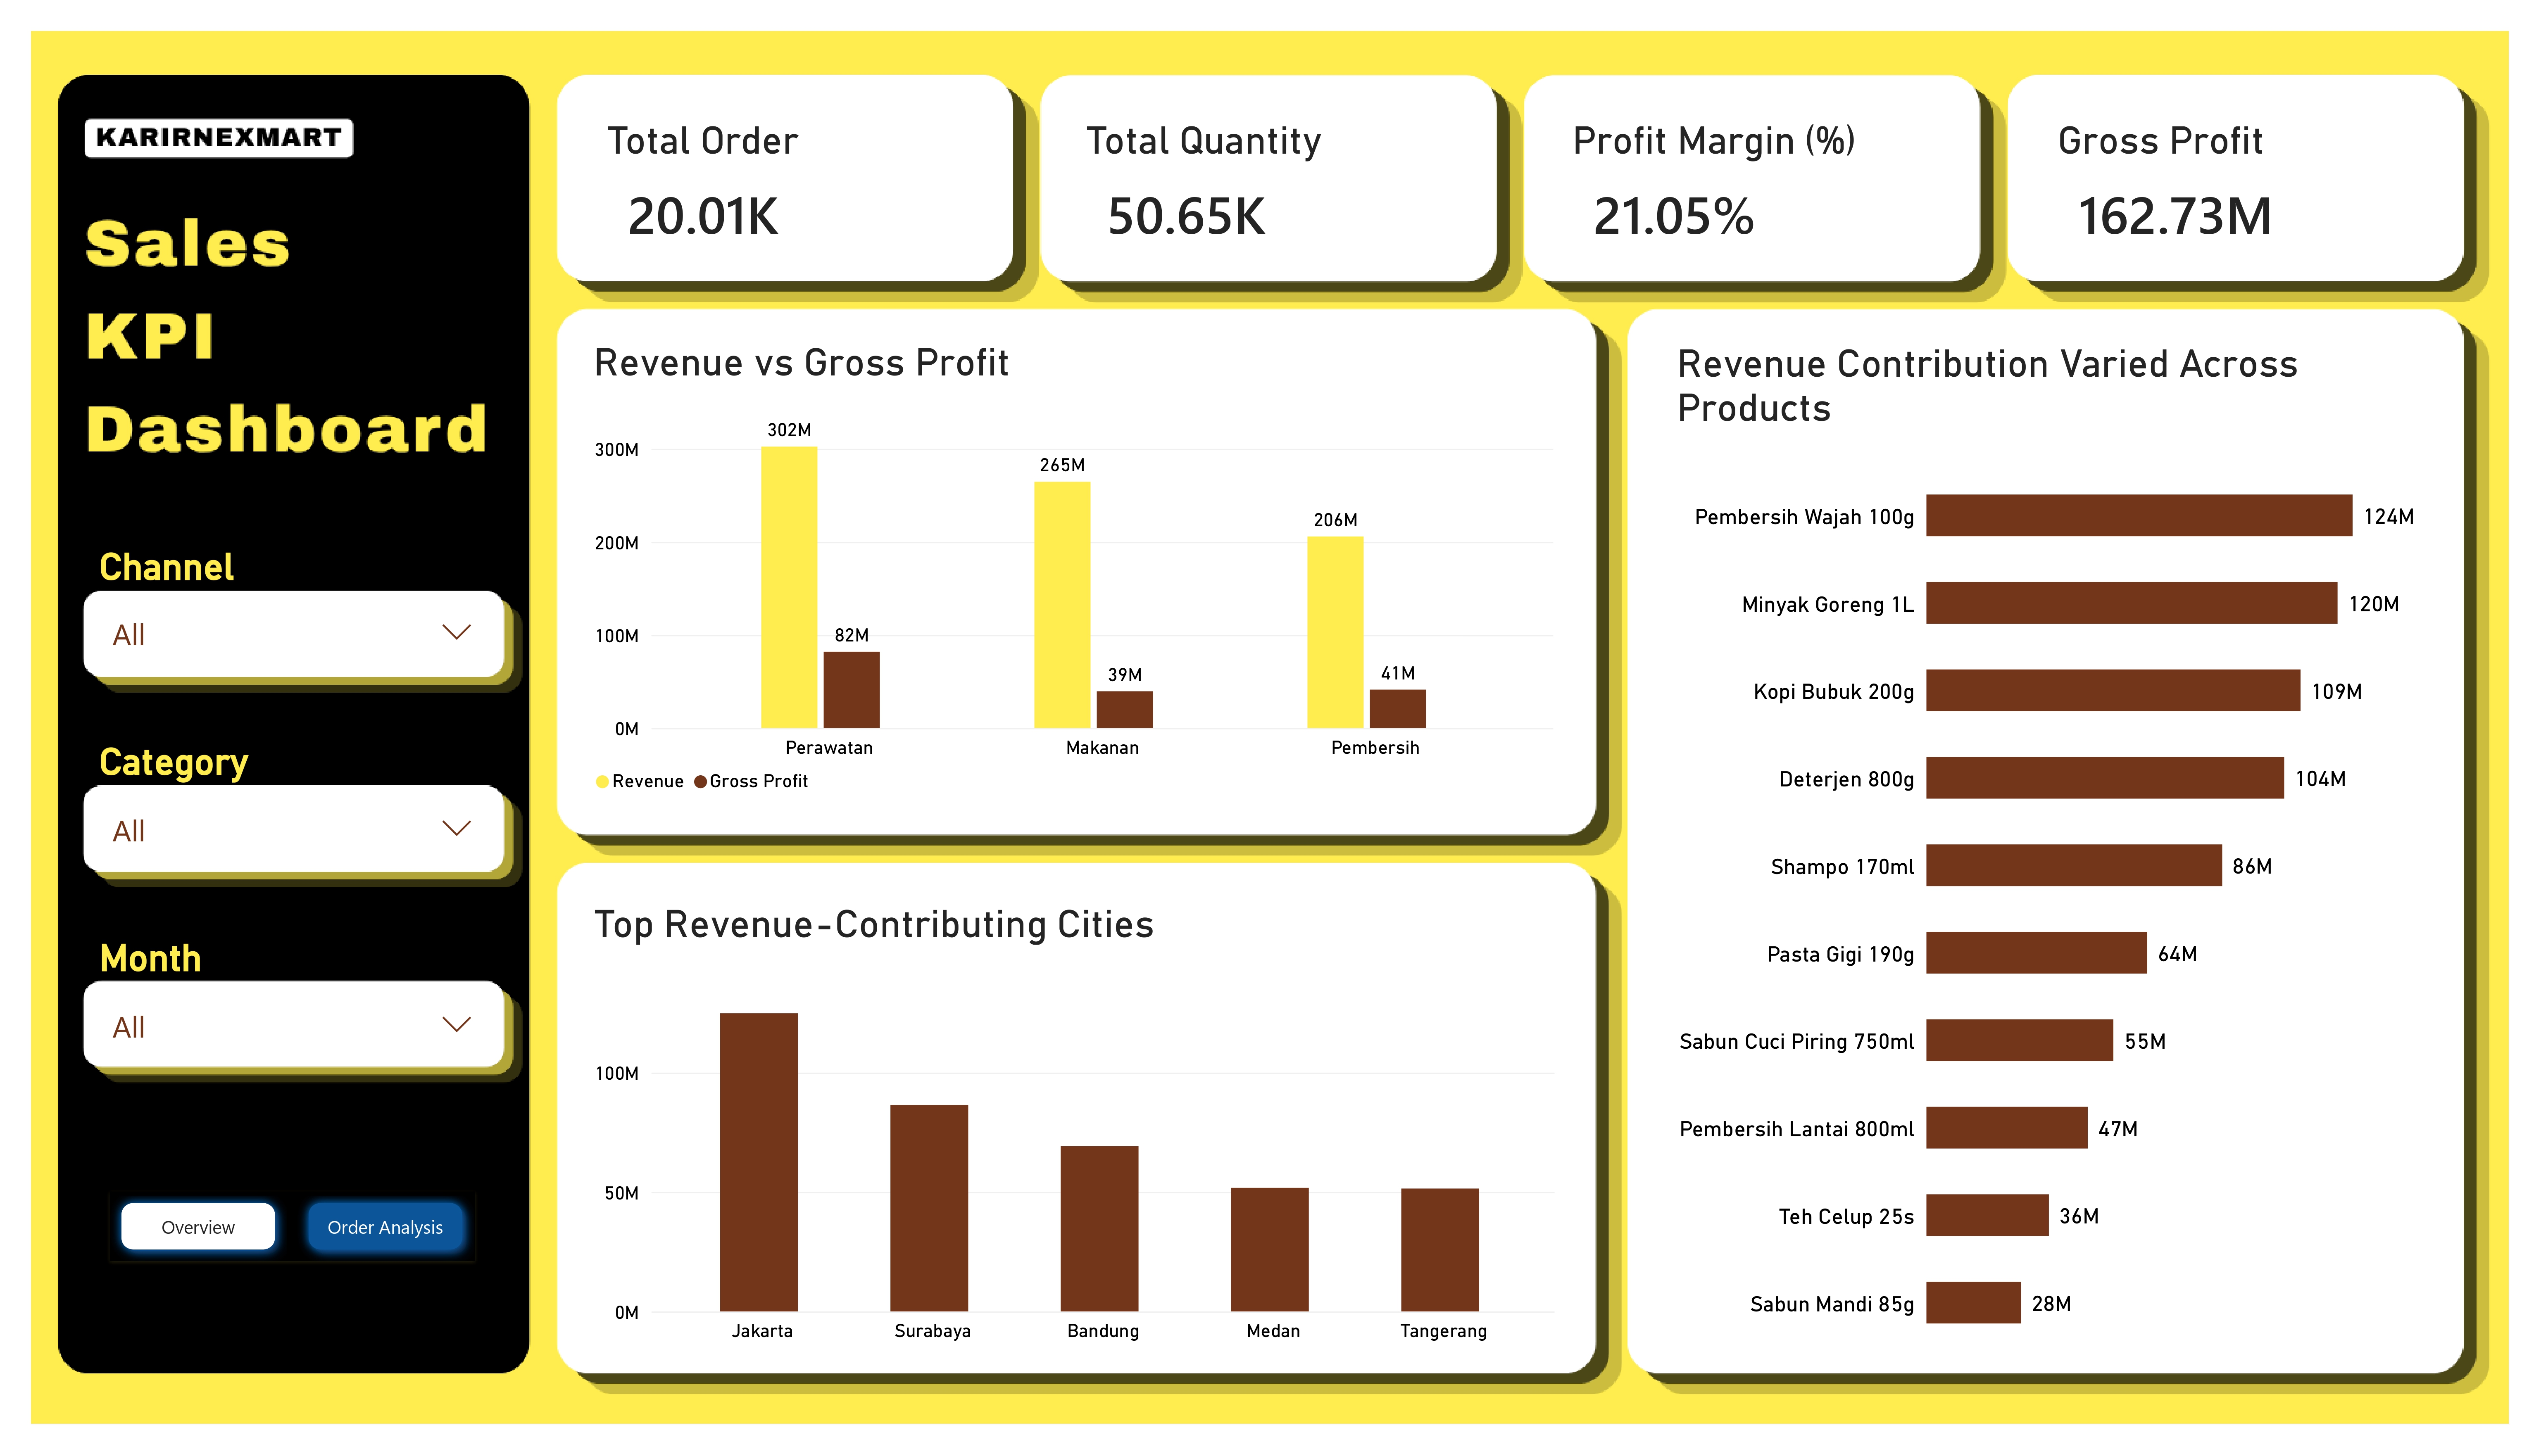

Layout of this report page (visuals, bound fields, positions):
{"tool":"powerbi","page":{"name":"Order Analysis","canvas":[1920,1080],"ordinal":1},"visuals":[{"type":"image","box":[0,0,1919.3,1078.9],"z":0},{"type":"cardVisual","title":"Profit Margin (%)","fields":{"Data":["Bulan_Target.Profit Margin (%)"]},"box":[1194.3,67.1,314.3,97.1],"z":1000},{"type":"cardVisual","title":"Total Order","fields":{"Data":["Count(Sales.order_id)"]},"box":[445.7,67.1,312.9,97.1],"z":2000},{"type":"cardVisual","title":"Total Quantity ","fields":{"Data":["Sum(Sales.quantity)"]},"box":[817.1,67.1,317.1,97.1],"z":3000},{"type":"cardVisual","title":"Gross Profit","fields":{"Data":["Bulan_Target.Gross Profit"]},"box":[1570,67.1,314.3,97.1],"z":4000},{"type":"clusteredBarChart","title":"Revenue Contribution Varied Across Products","fields":{"Category":["Products.product_name"],"Y":["Bulan_Target.Revenue"]},"box":[1258.6,225.7,604.3,820],"z":5000},{"type":"clusteredColumnChart","title":"Revenue vs Gross Profit","fields":{"Category":["Products.category"],"Y":["Bulan_Target.Revenue","Bulan_Target.Gross Profit"]},"box":[420,225,775,387.5],"z":6000},{"type":"textbox","box":[52.5,397.5,299.8,43.2],"z":7000},{"type":"textbox","box":[52.5,548.8,299.8,43.2],"z":8000},{"type":"textbox","box":[52.5,701.2,299.8,43.2],"z":9000},{"type":"slicer","fields":{"Values":["Sales.channel"]},"box":[52.2,440.6,300,56.7],"z":10000},{"type":"slicer","title":"Tes","fields":{"Values":["Products.category"]},"box":[52.2,592.8,300,56.7],"z":11000},{"type":"slicer","title":"Tes","fields":{"Values":["Bulan_Target.month_name"]},"box":[52.2,745,300,56.7],"z":12000},{"type":"clusteredColumnChart","title":"Top Revenue-Contributing Cities","fields":{"Category":["Sales.city"],"Y":["Bulan_Target.Revenue"]},"box":[420,660,775.7,372.9],"z":13000},{"type":"pageNavigator","box":[61.4,898.6,282.9,54.3],"z":14000}]}

Visuals, with their boxes on the page's 1920x1080 design canvas (x1, y1, x2, y2). These are canvas units, not pixel positions in the 2541x1456 screenshot, which may show the page scaled, cropped or inside an application window:
image: bbox(0, 0, 1919, 1079)
"Profit Margin (%)" cardVisual: bbox(1194, 67, 1509, 164)
"Total Order" cardVisual: bbox(446, 67, 759, 164)
"Total Quantity " cardVisual: bbox(817, 67, 1134, 164)
"Gross Profit" cardVisual: bbox(1570, 67, 1884, 164)
"Revenue Contribution Varied Across Products" clusteredBarChart: bbox(1259, 226, 1863, 1046)
"Revenue vs Gross Profit" clusteredColumnChart: bbox(420, 225, 1195, 612)
textbox: bbox(52, 398, 352, 441)
textbox: bbox(52, 549, 352, 592)
textbox: bbox(52, 701, 352, 744)
slicer - Sales.channel: bbox(52, 441, 352, 497)
"Tes" slicer: bbox(52, 593, 352, 650)
"Tes" slicer: bbox(52, 745, 352, 802)
"Top Revenue-Contributing Cities" clusteredColumnChart: bbox(420, 660, 1196, 1033)
pageNavigator: bbox(61, 899, 344, 953)
